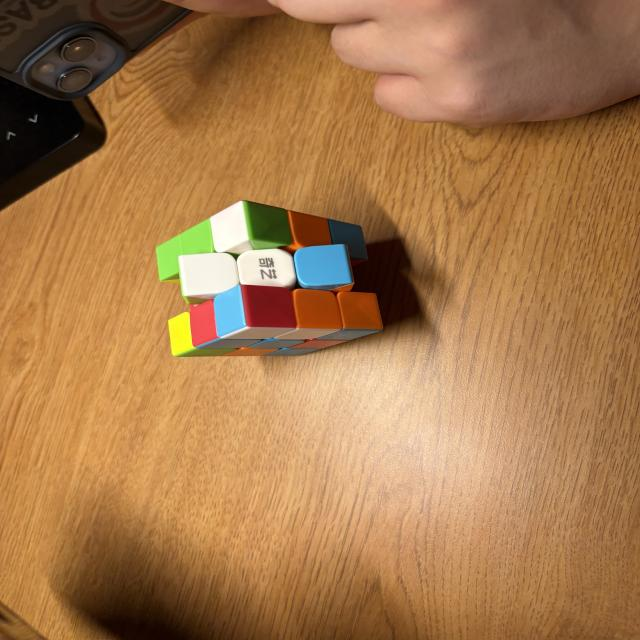Rubiks Cube: (156, 199, 383, 357)
